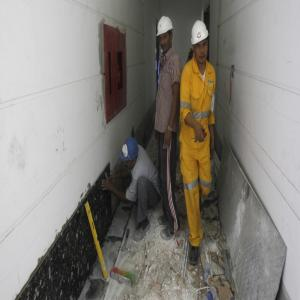blue: (122, 139, 140, 170)
white: (192, 21, 209, 65), (158, 17, 174, 54)
